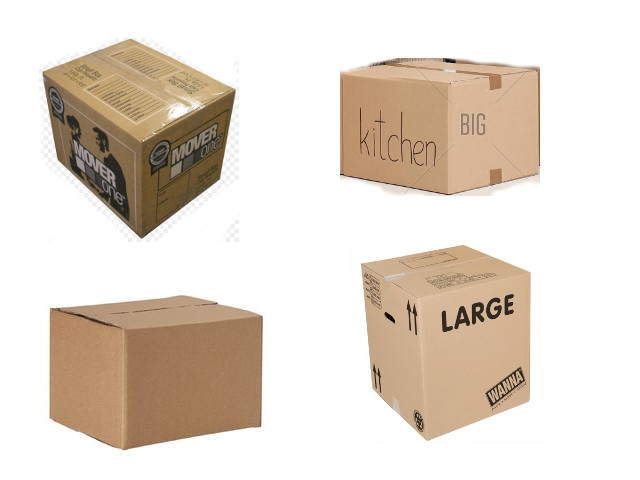cardboard: (43, 37, 232, 238), (361, 245, 531, 437), (50, 297, 261, 448), (341, 61, 539, 190)
